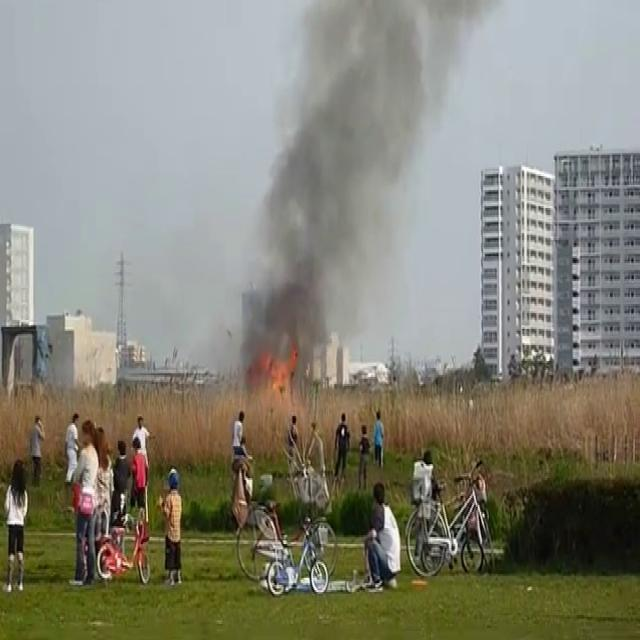Fire: (256, 342, 294, 402)
Smoke: (230, 0, 442, 377)
